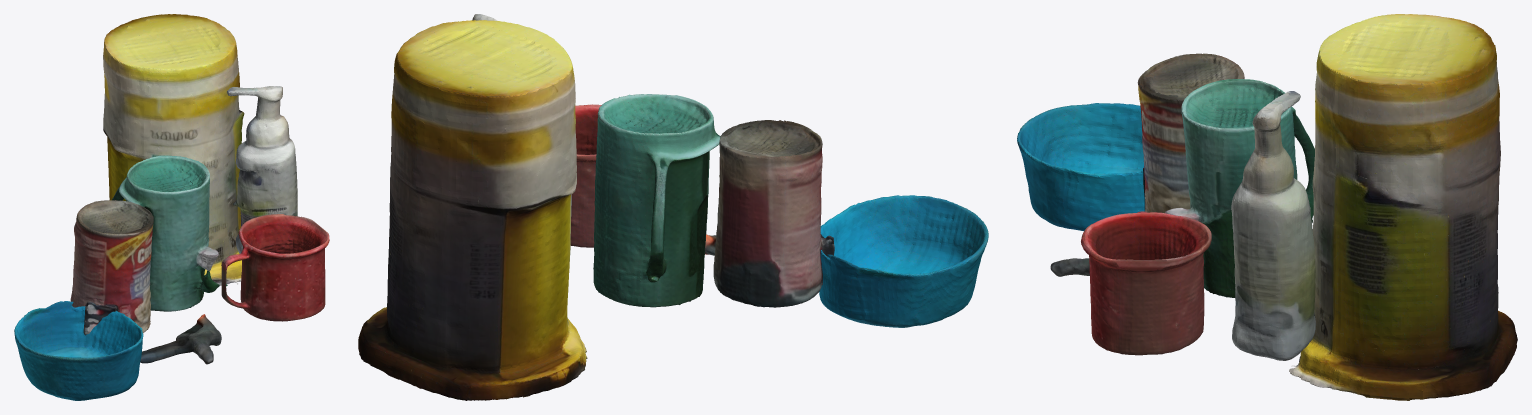
The picture shows the model from 3 angles, left to right: view 1: azimuth 30°, elevation 25°; view 2: azimuth 150°, elevation 25°; view 3: azimuth 270°, elevation 25°; orthographic projection. The views are drawn at different scales.
Parts seen in each view (by area): view 1: 6, 4, 0, 5, 1, 3, 2; view 2: 6, 4, 5, 0, 1; view 3: 6, 3, 1, 0, 4, 5, 2.
Part boxes in pixels (box(x1,y1,x2,y2)): 6: box(103, 14, 244, 285); 4: box(112, 155, 227, 311); 0: box(14, 301, 143, 400); 5: box(70, 200, 153, 335); 1: box(221, 214, 329, 321); 3: box(227, 86, 297, 253); 2: box(140, 314, 221, 364); 6: box(358, 20, 587, 400); 4: box(593, 94, 720, 307); 5: box(713, 120, 834, 307); 0: box(819, 195, 988, 327); 1: box(570, 104, 601, 247); 6: box(1289, 14, 1517, 400); 3: box(1231, 91, 1315, 360); 1: box(1081, 211, 1211, 355); 0: box(1017, 103, 1144, 231); 4: box(1165, 79, 1314, 297); 5: box(1137, 53, 1244, 213); 2: box(1050, 258, 1089, 276).
Bounding box in the file's own units: 0.3765 × 0.2633 × 0.355.
7 materials, 7 textured.
